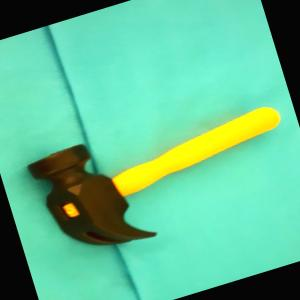martelo: (26, 84, 300, 265)
